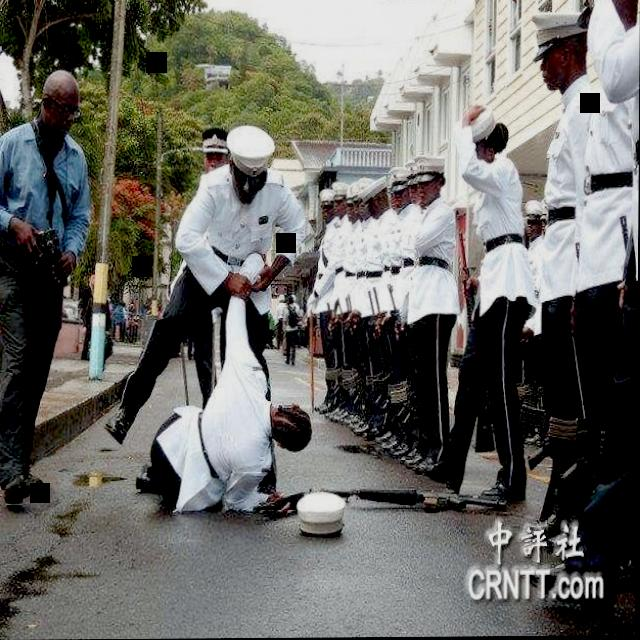Fall-Detected: (140, 246, 329, 526)
